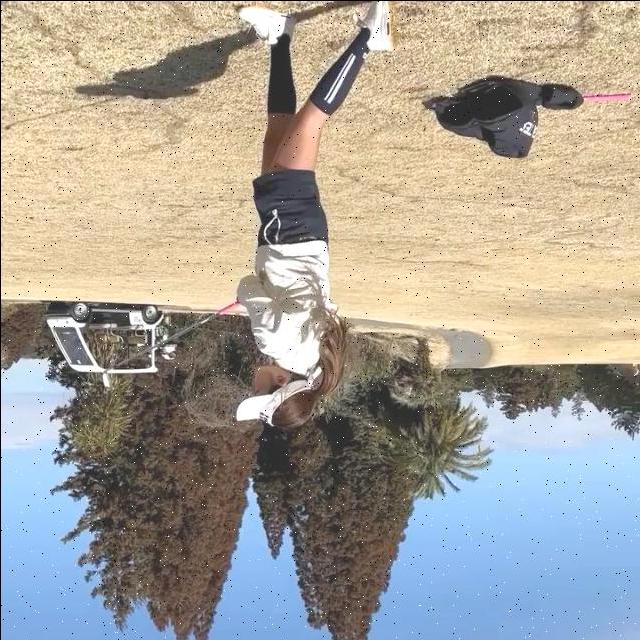ClubHandle: (97, 303, 240, 391)
ClubHead: (100, 371, 114, 389)
